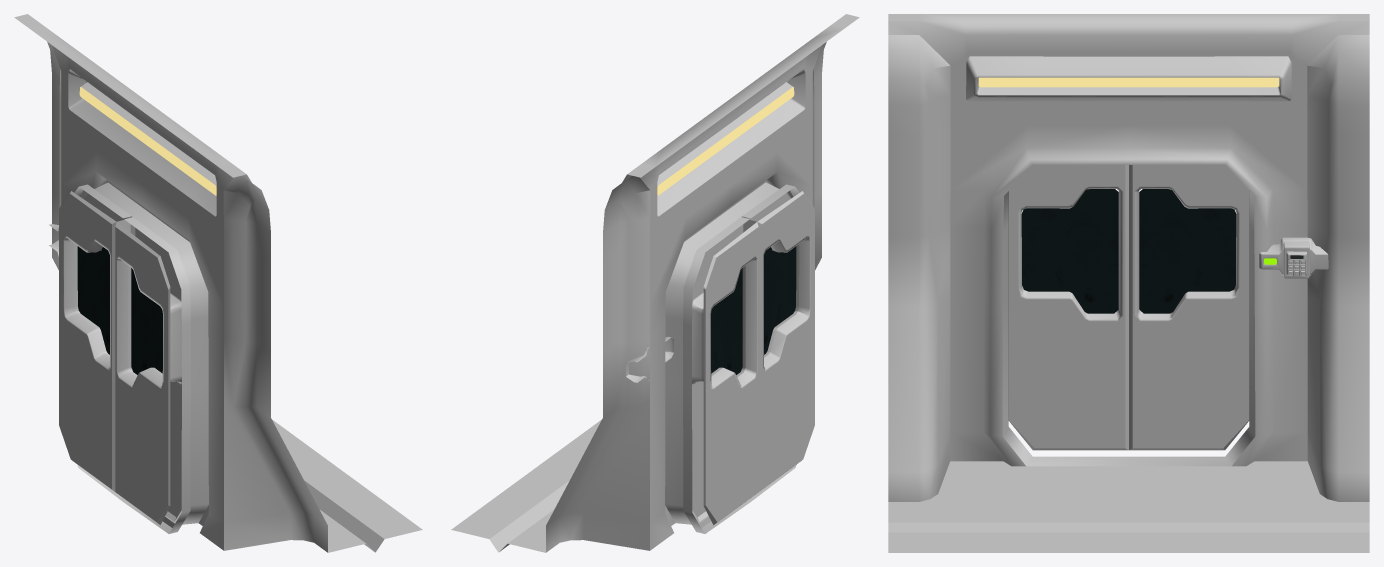
File: SFL_Door.fbx
3 views of the same model, side by side, from view 1: azimuth 30°, elevation 25°; view 2: azimuth 150°, elevation 25°; view 3: azimuth 270°, elevation 25° (orthographic). The views are drawn at different scales.
Parts seen in each view (by area): view 1: SFL_Door, door_sliding2, door_sliding1, door_glass (×2); view 2: SFL_Door, door_sliding1, door_sliding2, door_glass (×2); view 3: SFL_Door, door_sliding2, door_sliding1, door_glass (×2), door_pinlock.
Boxes of the visible parts, x1,y1,x2,y2 form: SFL_Door: (14, 14, 422, 552); door_sliding2: (115, 219, 181, 524); door_sliding1: (59, 191, 129, 491); door_glass (×2): (77, 246, 162, 374); SFL_Door: (451, 14, 859, 552); door_sliding1: (692, 221, 758, 524); door_sliding2: (743, 191, 814, 491); door_glass (×2): (711, 246, 796, 374); SFL_Door: (888, 14, 1369, 552); door_sliding2: (1008, 165, 1128, 450); door_sliding1: (1129, 165, 1249, 450); door_glass (×2): (1021, 189, 1236, 313); door_pinlock: (1259, 237, 1328, 278).
Size of the model in its own units: 210 by 413 by 400.
